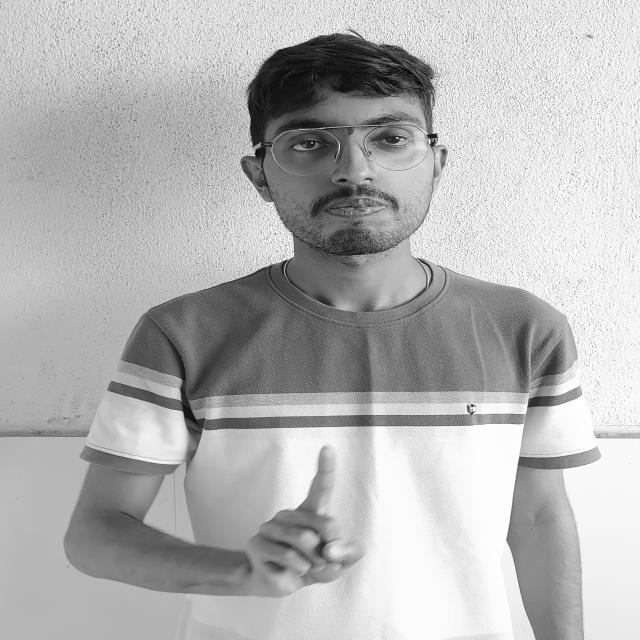Question: (192, 430, 408, 604)
